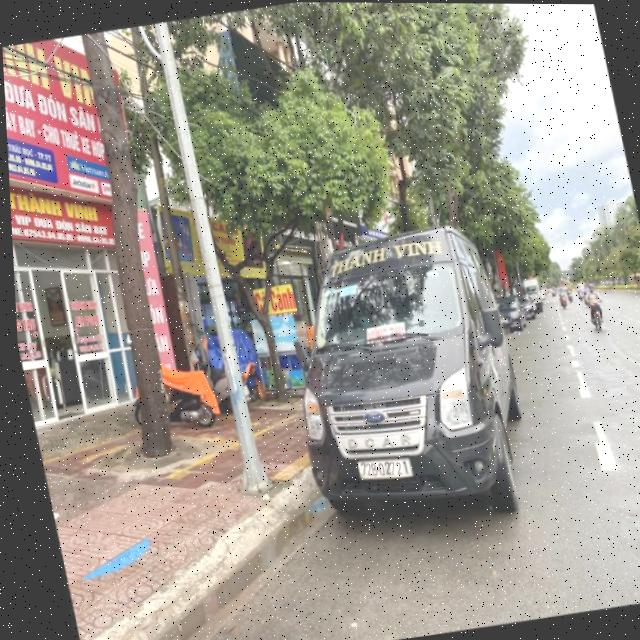car: (269, 219, 541, 537)
motorcycle: (579, 294, 613, 336)
plate: (352, 448, 417, 489)
